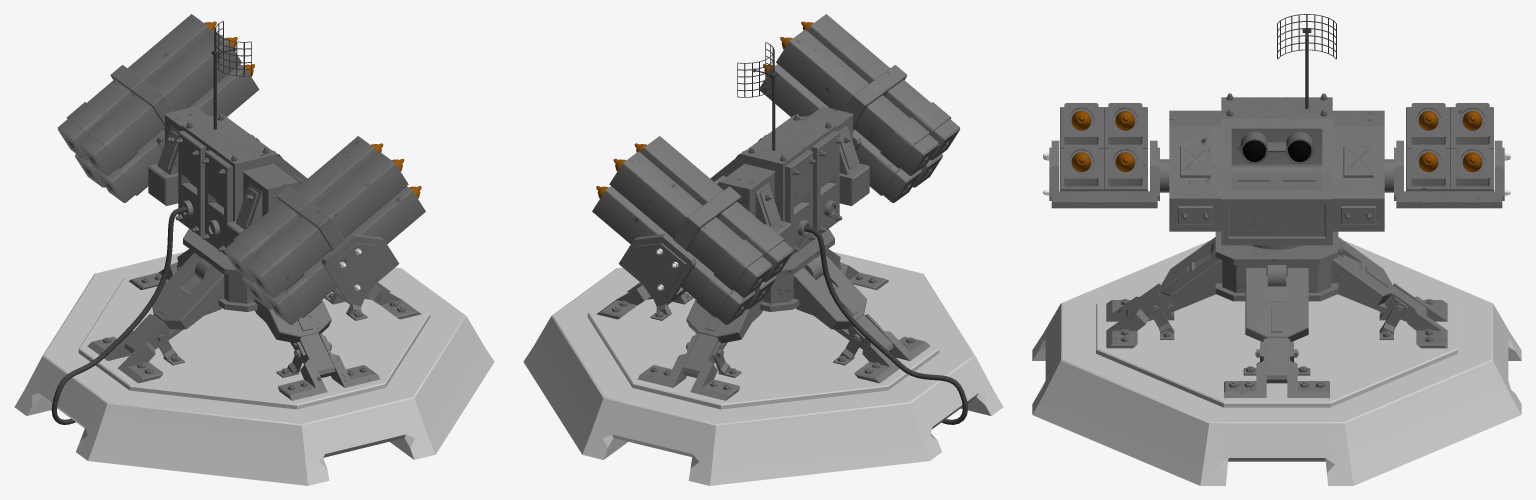
3 renders of one model, left to right at view 1: azimuth 30°, elevation 25°; view 2: azimuth 150°, elevation 25°; view 3: azimuth 270°, elevation 25°, orthographic. The views are drawn at different scales.
Visible parts, largest first — view 1: Cube.004, Cube.001, Cube.003, Cube, Cube.002, Plane, BezierCurve, Cylinder.004, Cylinder.008; view 2: Cube.004, Cube.001, Cube.003, Cube, Cube.002, Plane, BezierCurve, Cylinder.004, Cylinder.008; view 3: Cube.004, Cube, Cube.003, Cube.001, Cube.002, Plane, Cylinder.001, Cylinder.002, Cylinder.004, Cylinder.
Part boxes in pixels (box(x1,y1,x2,y2)): Cube.004: box(14, 251, 494, 485); Cube.001: box(57, 14, 425, 324); Cube.003: box(87, 249, 421, 400); Cube: box(148, 106, 307, 256); Cube.002: box(156, 115, 399, 304); Plane: box(183, 228, 257, 311); BezierCurve: box(51, 206, 187, 424); Cylinder.004: box(211, 21, 251, 129); Cylinder.008: box(167, 114, 269, 252); Cube.004: box(523, 251, 1003, 485); Cube.001: box(592, 14, 960, 324); Cube.003: box(596, 249, 930, 400); Cube: box(710, 106, 869, 256); Cube.002: box(618, 115, 861, 304); Plane: box(760, 228, 834, 311); BezierCurve: box(804, 226, 967, 424); Cylinder.004: box(737, 42, 777, 150); Cylinder.008: box(748, 114, 850, 252); Cube.004: box(1032, 240, 1521, 485); Cube: box(1169, 97, 1384, 245); Cube.003: box(1106, 237, 1447, 398); Cube.001: box(1060, 103, 1493, 191); Cube.002: box(1049, 140, 1504, 208); Plane: box(1215, 231, 1338, 301); Cylinder.001: box(1072, 111, 1481, 172); Cylinder.002: box(1240, 131, 1313, 163); Cylinder.004: box(1277, 14, 1336, 108); Cylinder: box(1160, 159, 1393, 192).
Size of what is drawn, in the model's own units: 881 by 710 by 881.
